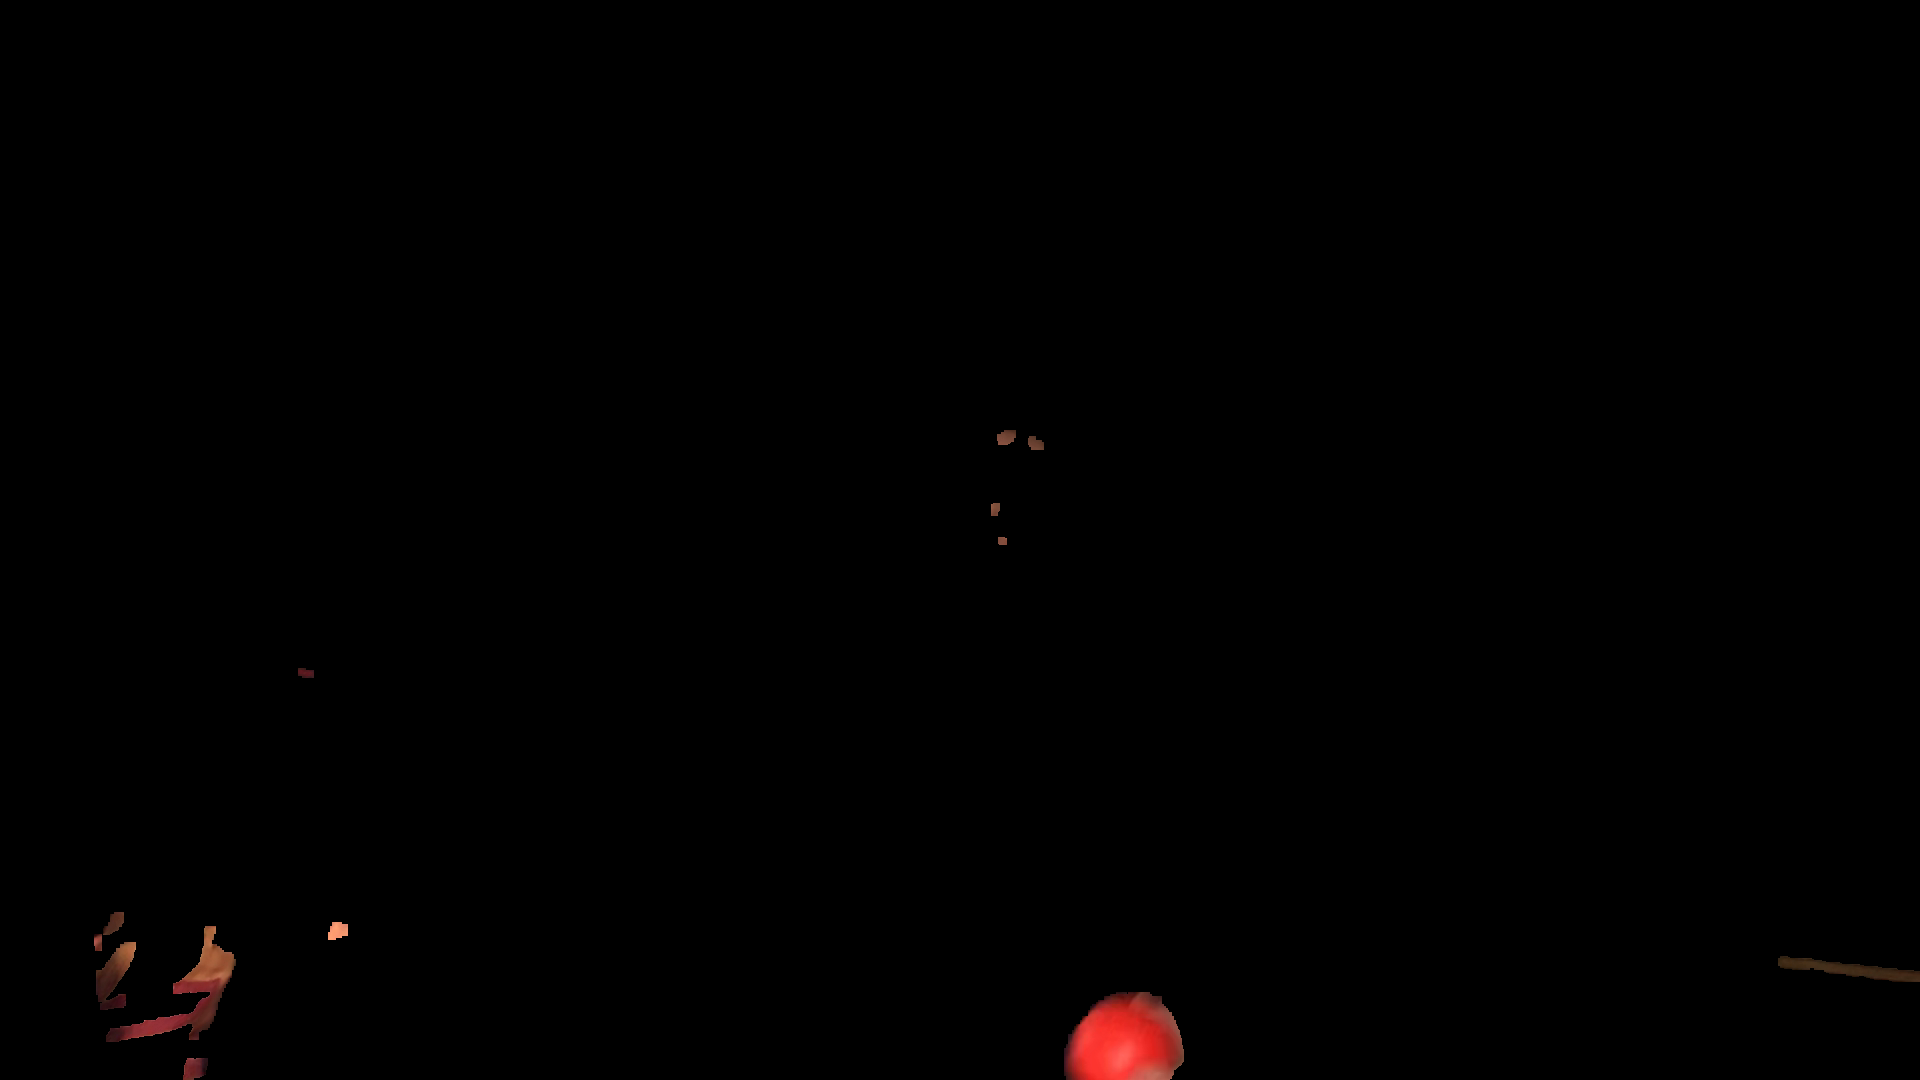Ball: (1065, 1000, 1182, 1080)
